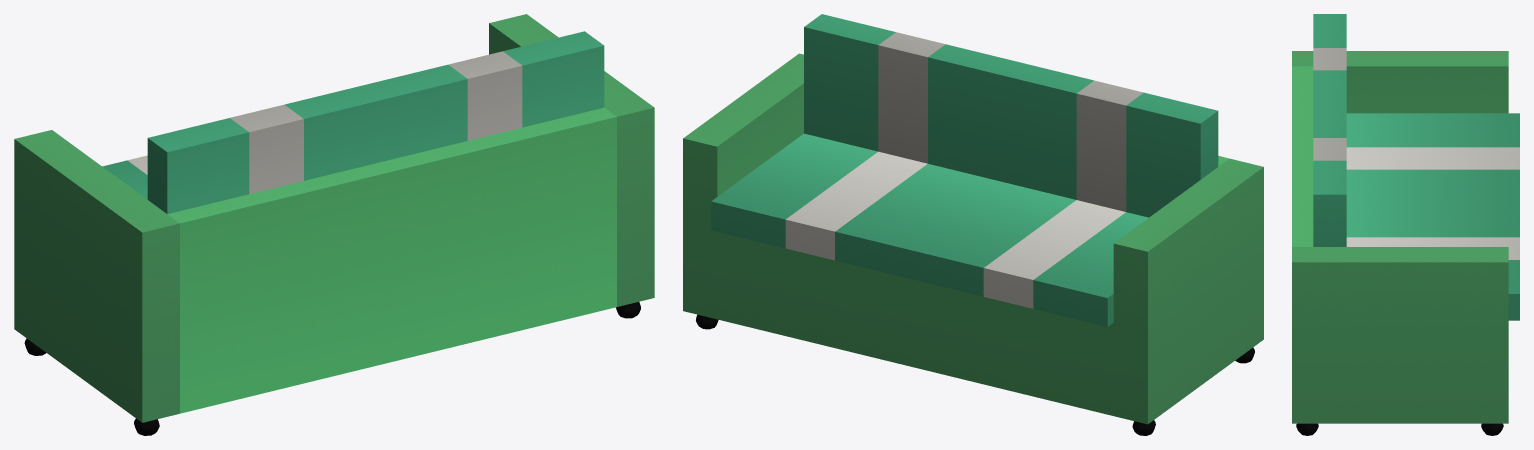
File: PROP_sofa.fbx
The picture shows the model from 3 angles, left to right: view 1: azimuth 30°, elevation 25°; view 2: azimuth 150°, elevation 25°; view 3: azimuth 270°, elevation 25°; orthographic projection. The views are drawn at different scales.
Parts seen in each view (by area): view 1: PROP_sofa; view 2: PROP_sofa; view 3: PROP_sofa.
Boxes of the visible parts, x1=… form: PROP_sofa: x1=14, y1=14, x2=654, y2=435; PROP_sofa: x1=683, y1=14, x2=1263, y2=435; PROP_sofa: x1=1292, y1=14, x2=1519, y2=435.
Size of the model in its own units: 200 by 101 by 91.
